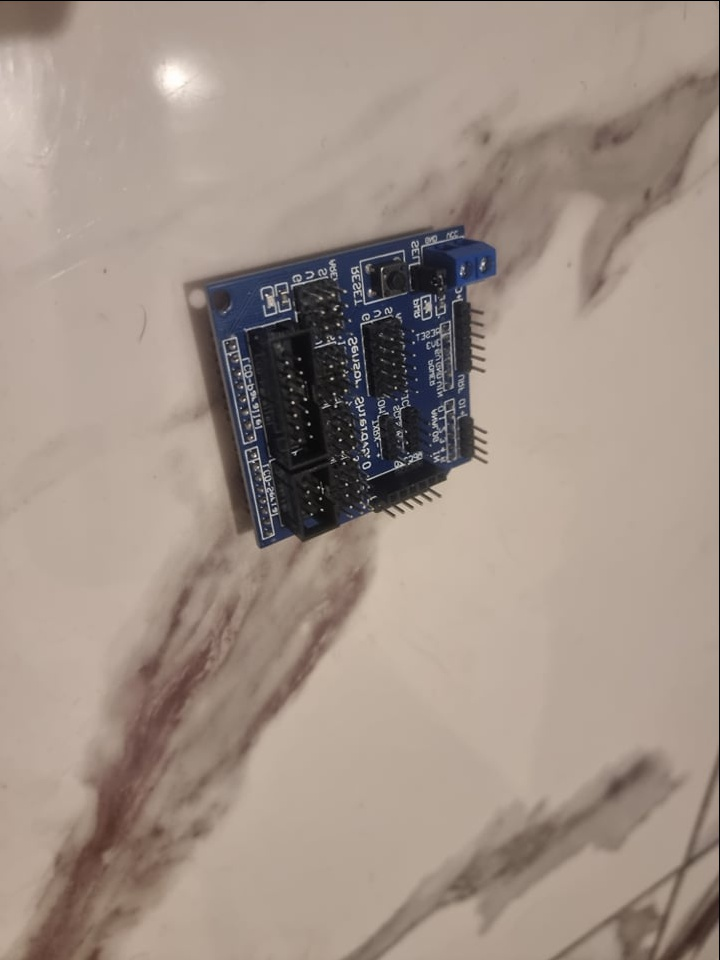5V EXPANSION: (202, 221, 501, 550)
